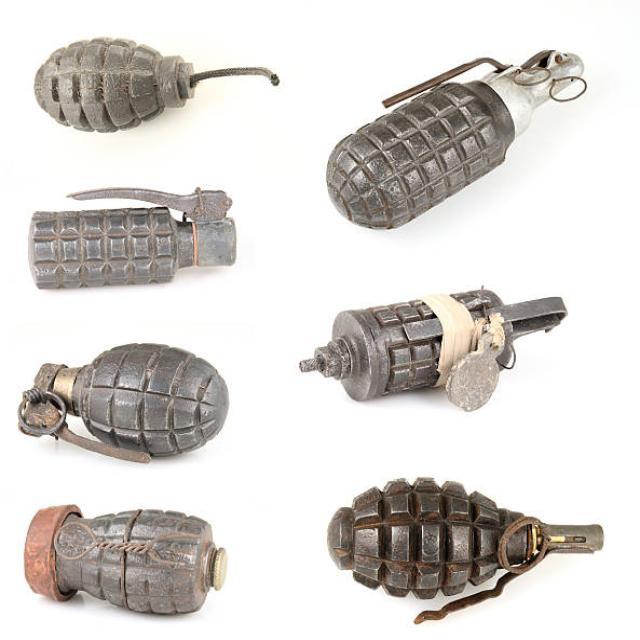grenade: (322, 46, 592, 234), (320, 474, 611, 633), (296, 280, 576, 417), (14, 339, 234, 467), (14, 504, 235, 625), (29, 35, 286, 136), (24, 186, 242, 294)
